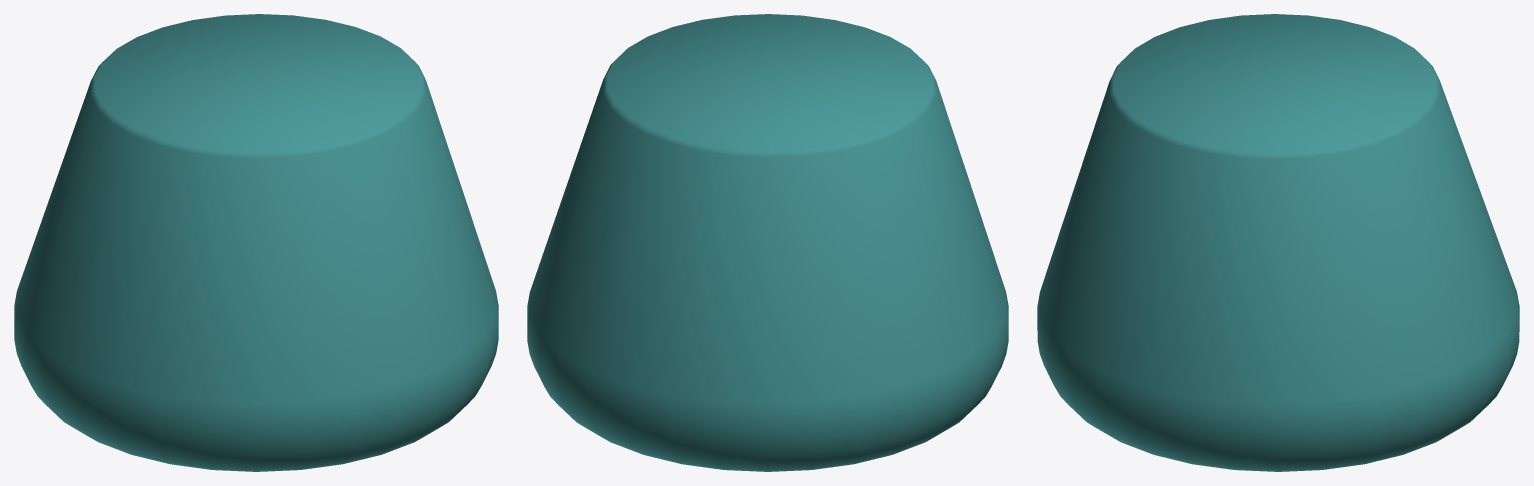
Rendered from SM_大号锥形瓶液体_007.fbx.
3 renders of one model, left to right at view 1: azimuth 30°, elevation 25°; view 2: azimuth 150°, elevation 25°; view 3: azimuth 270°, elevation 25°, orthographic.
Parts seen in each view (by area): view 1: SM_大号锥形瓶液体_007; view 2: SM_大号锥形瓶液体_007; view 3: SM_大号锥形瓶液体_007.
Boxes of the visible parts, box(x1,y1,x2,y2) form: SM_大号锥形瓶液体_007: box(14, 14, 498, 471); SM_大号锥形瓶液体_007: box(527, 14, 1008, 471); SM_大号锥形瓶液体_007: box(1037, 14, 1519, 471).
Size of the model in its own units: 0.2159 by 0.1499 by 0.2147.
